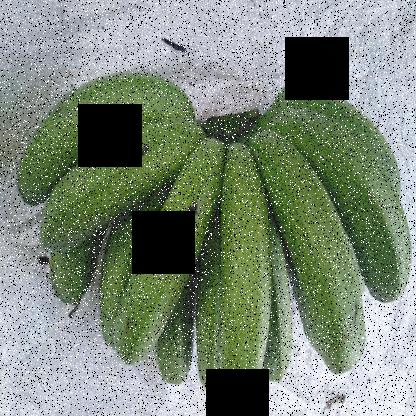freshunripe: (293, 111, 410, 303), (210, 122, 278, 406)
unripe: (266, 119, 373, 381), (114, 136, 231, 375), (25, 121, 205, 261), (10, 66, 188, 194)
